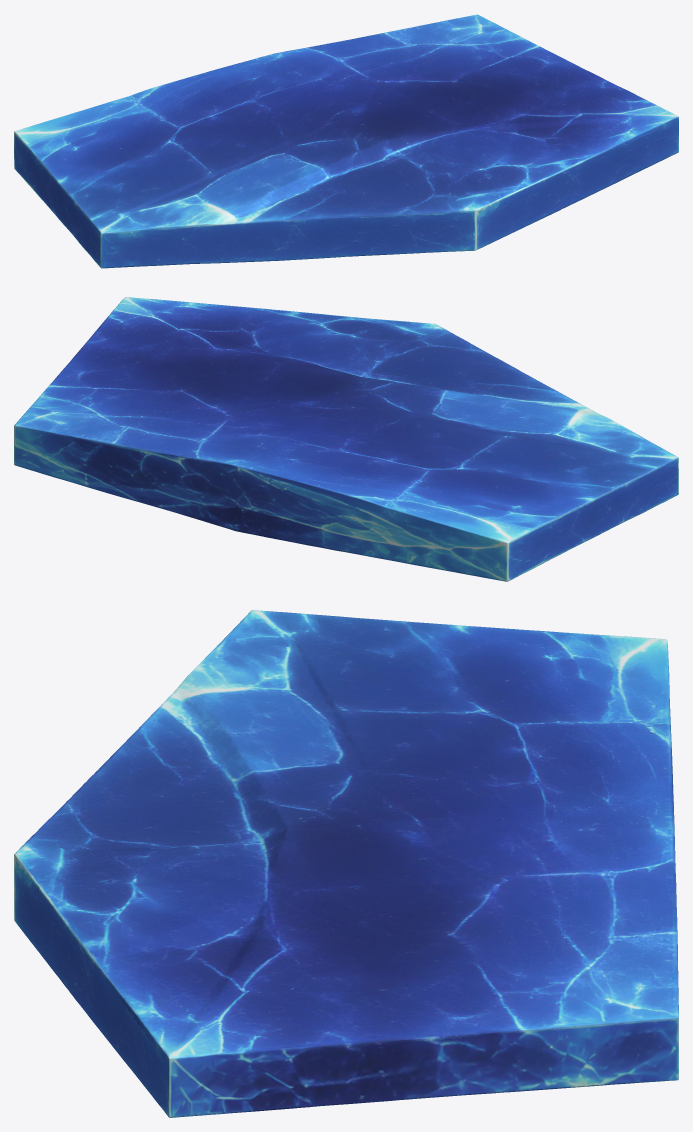
The model's file is diamond.glb.
3 views of the same model, one above another, from view 1: azimuth 30°, elevation 25°; view 2: azimuth 150°, elevation 25°; view 3: azimuth 270°, elevation 25° (orthographic). The views are drawn at different scales.
Parts seen in each view (by area): view 1: tripo_node_e9977560-4a82-4eba-9685-6405d1ba2085; view 2: tripo_node_e9977560-4a82-4eba-9685-6405d1ba2085; view 3: tripo_node_e9977560-4a82-4eba-9685-6405d1ba2085.
Boxes of the visible parts, box(x1,y1,x2,y2) form: tripo_node_e9977560-4a82-4eba-9685-6405d1ba2085: box(14, 14, 678, 268); tripo_node_e9977560-4a82-4eba-9685-6405d1ba2085: box(14, 297, 678, 581); tripo_node_e9977560-4a82-4eba-9685-6405d1ba2085: box(14, 610, 678, 1117).
Bounding box in the file's own units: 0.9799 × 0.1068 × 0.6142.
1 material, 1 textured.
